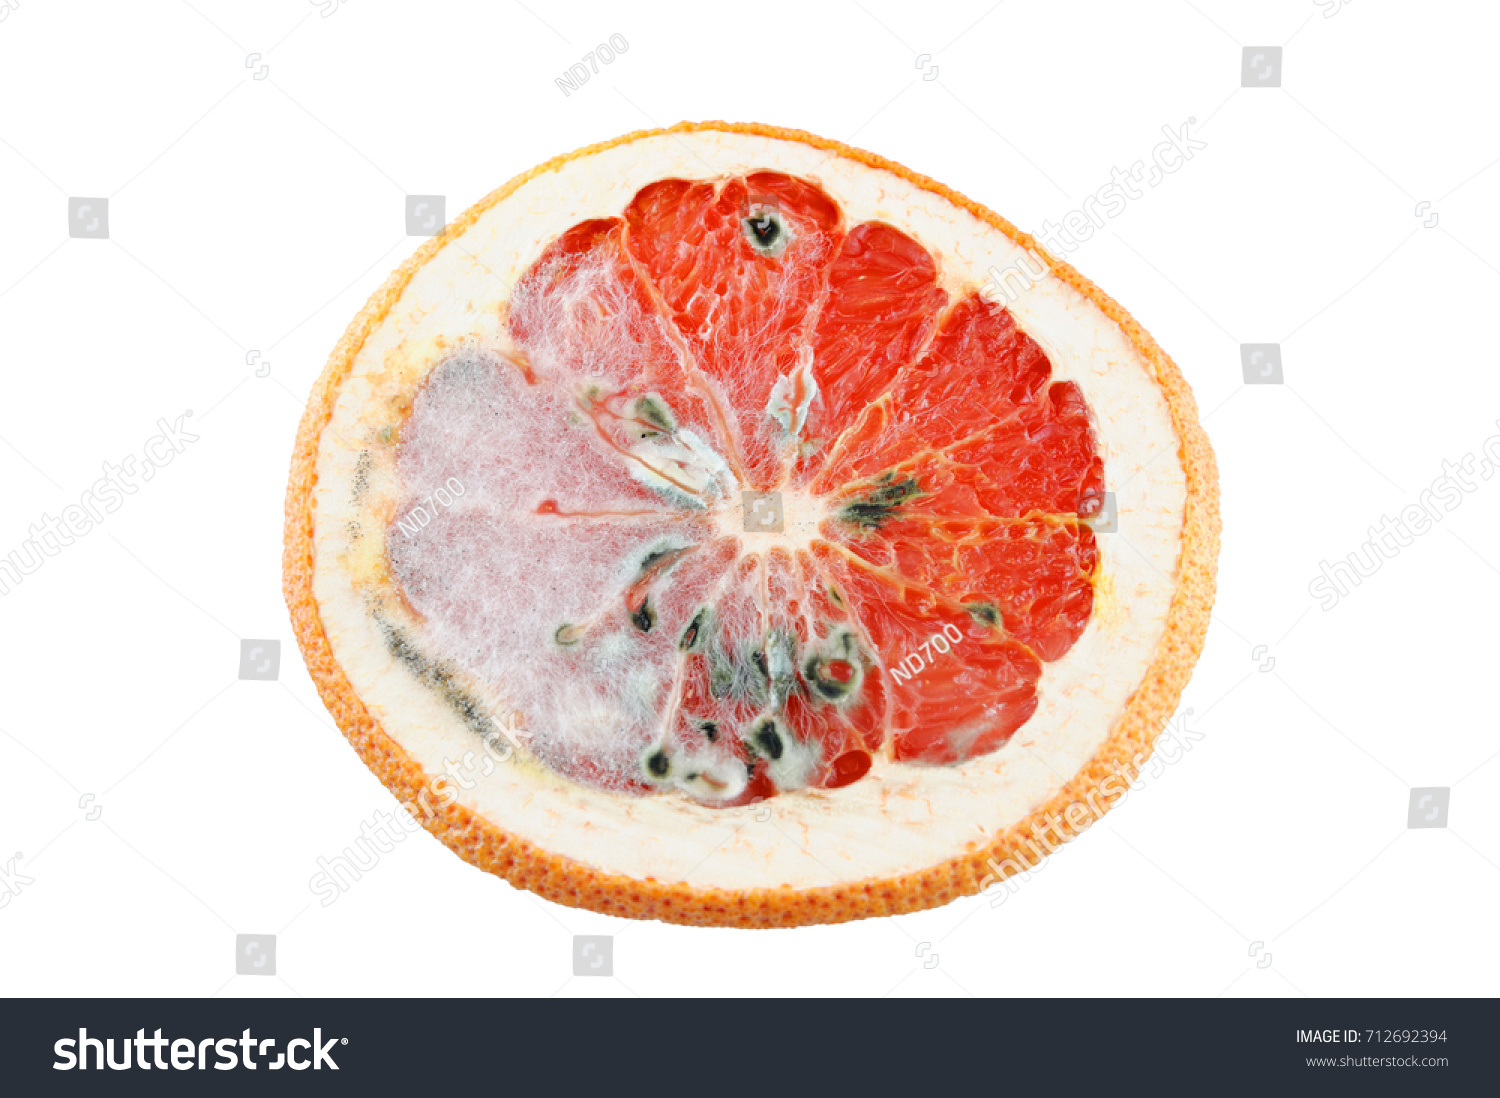damaged_grapefruit: (283, 116, 1243, 907)
